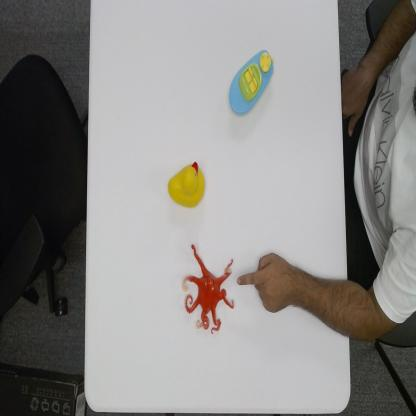Arm: (299, 258, 352, 338)
Boat: (228, 47, 275, 118)
Duck: (167, 159, 206, 209)
Hand: (236, 246, 294, 314)
Octopus: (182, 242, 235, 335)
